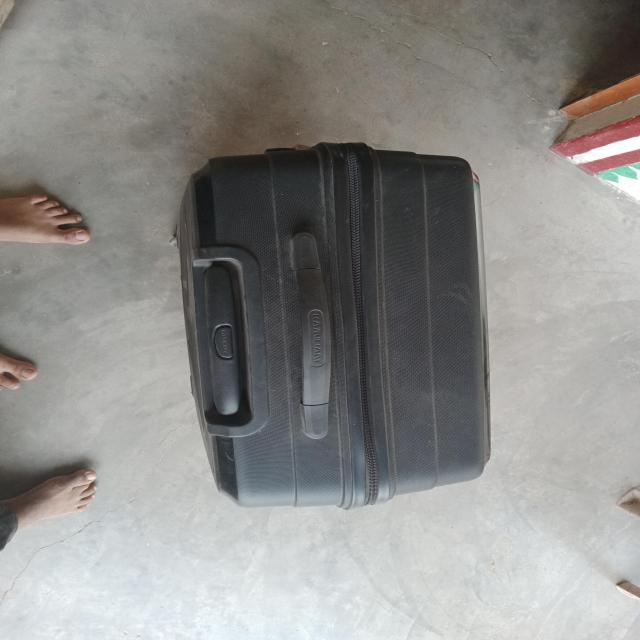luggage: (169, 138, 496, 511)
